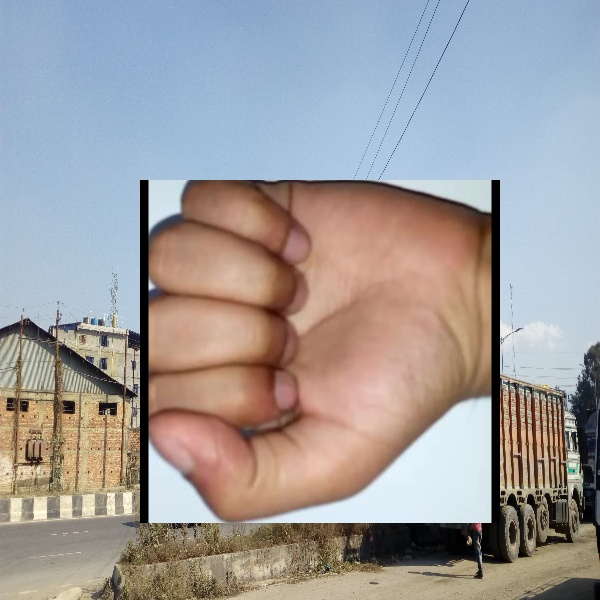A: (140, 180, 500, 523)
